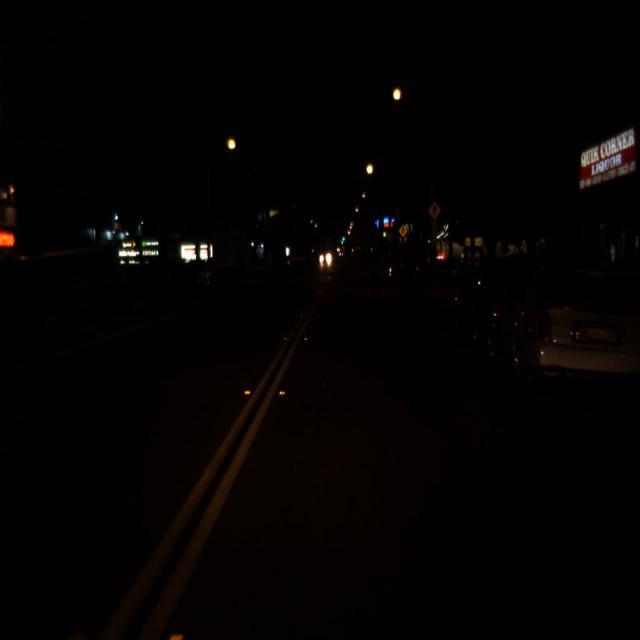go: (341, 234, 345, 242)
go traffic light: (341, 234, 345, 242)
